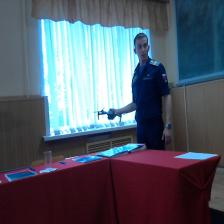drone: (92, 98, 126, 124)
